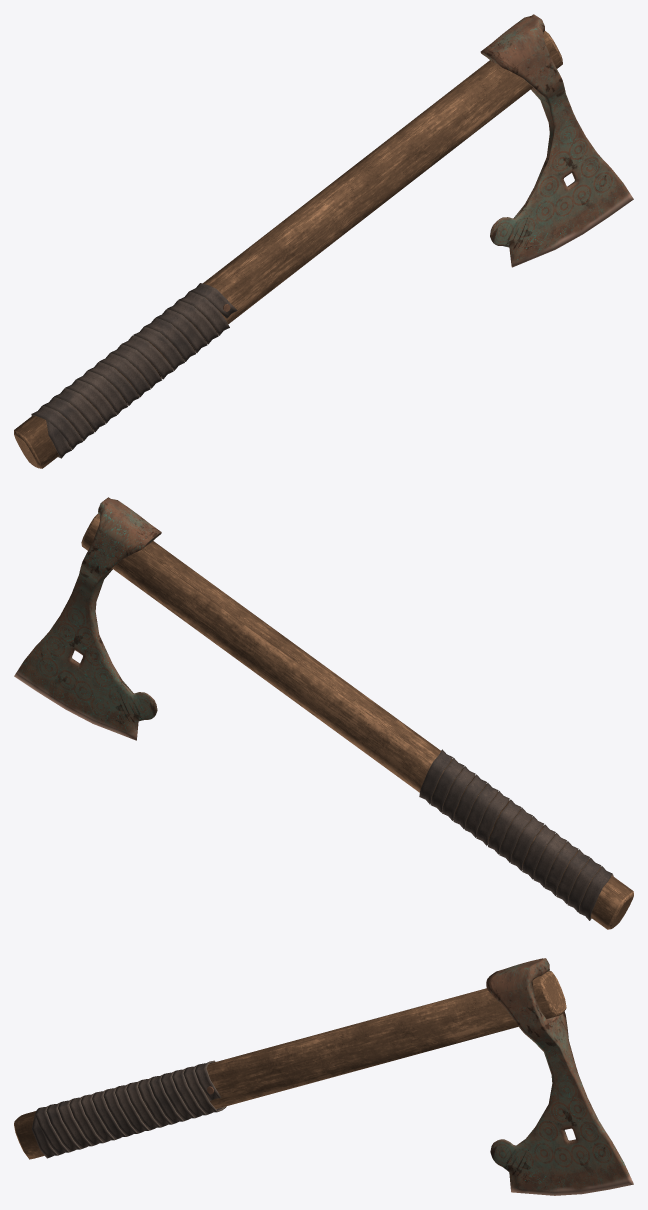
File: axe.glb
The picture shows the model from 3 angles, top to bottom: view 1: azimuth 30°, elevation 25°; view 2: azimuth 150°, elevation 25°; view 3: azimuth 330°, elevation 25°; orthographic projection. The views are drawn at different scales.
Visible parts, largest first — view 1: handle.002; view 2: handle.002; view 3: handle.002.
Boxes of the visible parts, box(x1,y1,x2,y2) form: handle.002: box(14, 14, 633, 468); handle.002: box(14, 497, 633, 929); handle.002: box(14, 958, 633, 1195).
Size of the model in its own units: 0.5527 by 0.271 by 0.044.
Materials: 1 (1 with a texture image).
